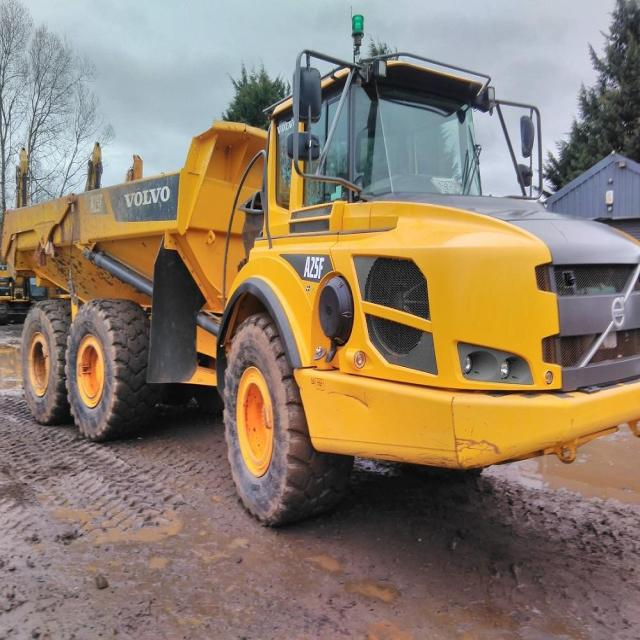dump_truck: (6, 36, 640, 524)
